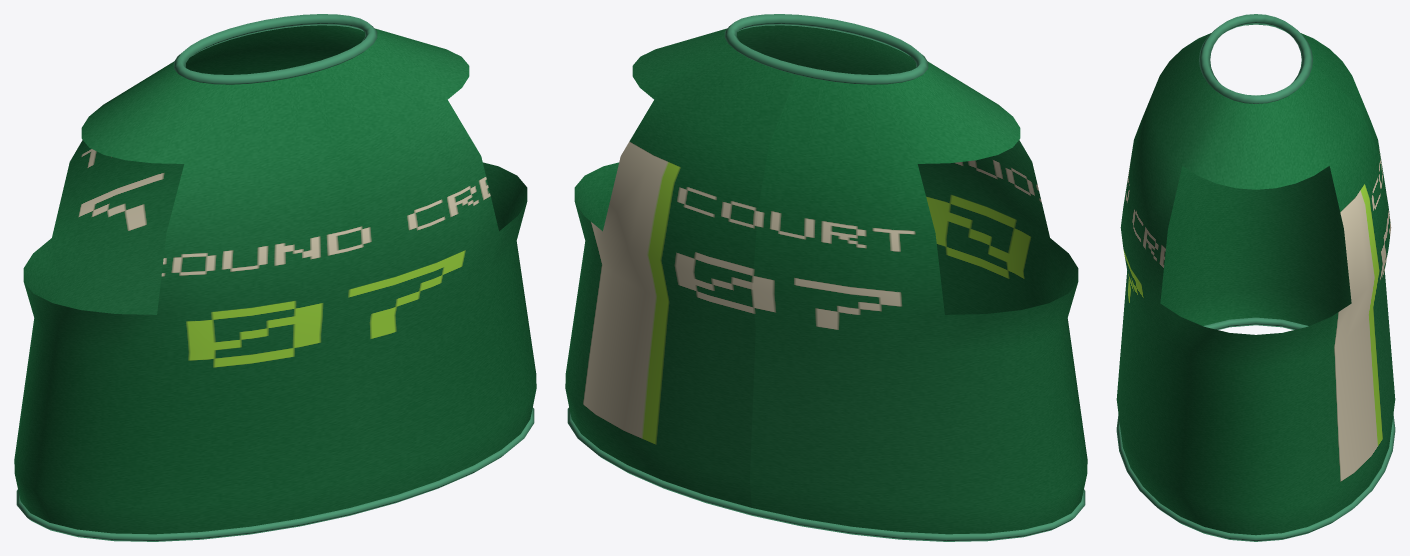
The model's file is CG_TOP_02.fbx.
3 renders of one model, left to right at view 1: azimuth 30°, elevation 25°; view 2: azimuth 150°, elevation 25°; view 3: azimuth 270°, elevation 25°, orthographic. The views are drawn at different scales.
Visible parts, largest first — view 1: Camiseta_com_caimento.005, BlenderTopo_Gola.004, BlenderTopo_Barra.004; view 2: Camiseta_com_caimento.005, BlenderTopo_Gola.004, BlenderTopo_Barra.004; view 3: Camiseta_com_caimento.005, BlenderTopo_Barra.004, BlenderTopo_Gola.004.
Part boxes in pixels (x1,y1,x2,y2): Camiseta_com_caimento.005: (14,25,536,534); BlenderTopo_Gola.004: (173,14,377,84); BlenderTopo_Barra.004: (16,407,534,541); Camiseta_com_caimento.005: (565,25,1087,534); BlenderTopo_Gola.004: (724,14,928,84); BlenderTopo_Barra.004: (567,407,1085,541); Camiseta_com_caimento.005: (1116,24,1395,535); BlenderTopo_Barra.004: (1116,317,1395,541); BlenderTopo_Gola.004: (1199,14,1312,103).
Bounding box in the file's own units: 111 × 88.1 × 58.8.
2 materials, 1 textured.
